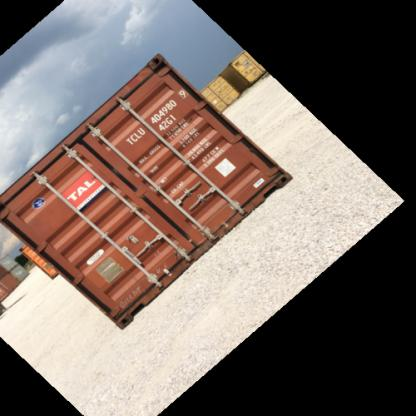Damage: (168, 216, 206, 246)
